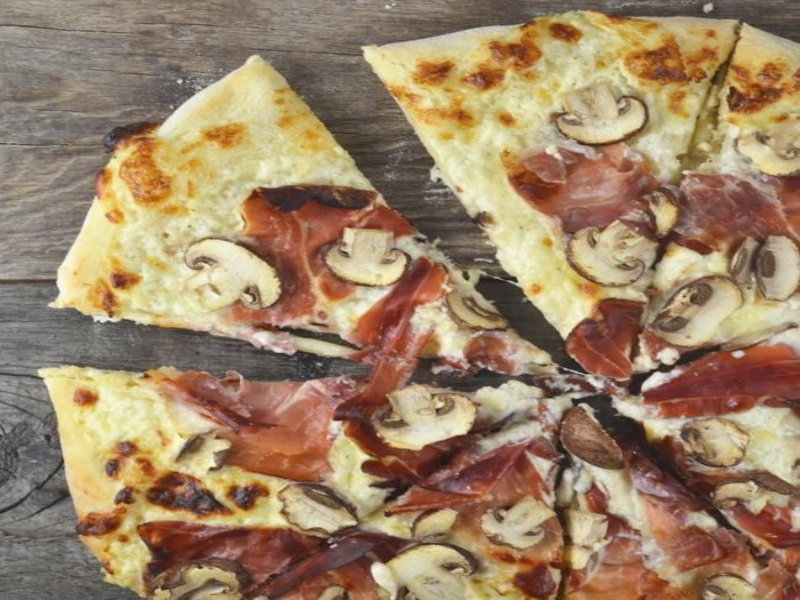champignon: (369, 377, 480, 456), (179, 235, 283, 313), (545, 83, 654, 150), (651, 272, 745, 349), (380, 537, 493, 600), (559, 215, 648, 290), (320, 226, 409, 289)
